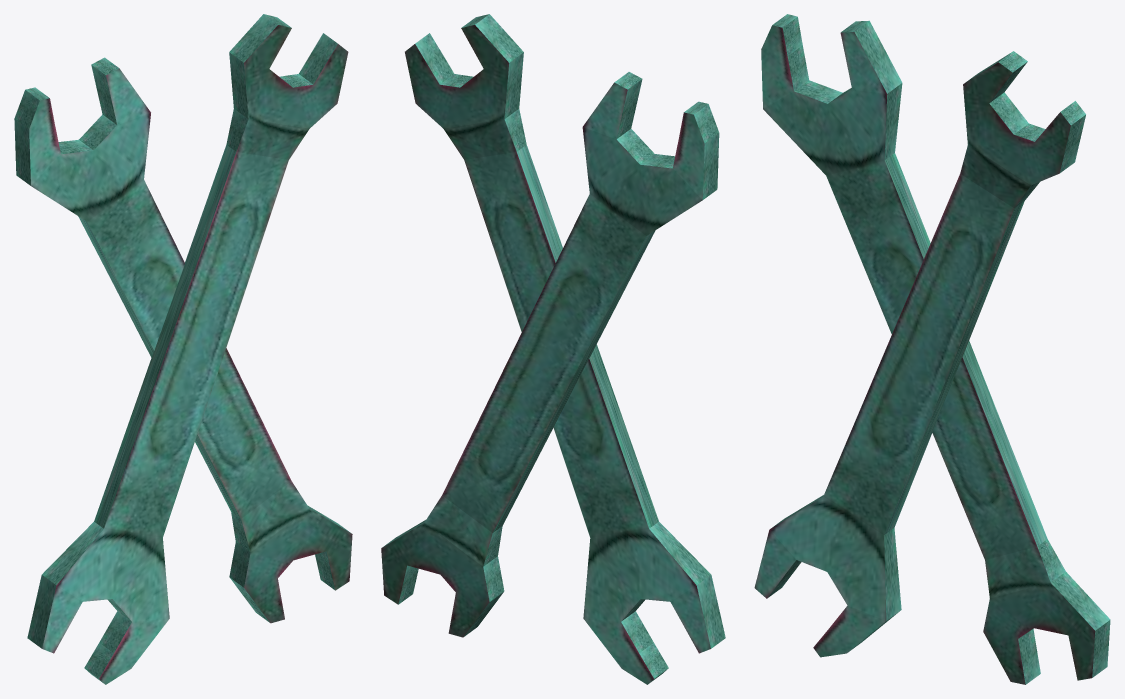
The model's file is HealthPickup.fbx.
3 renders of one model, left to right at view 1: azimuth 30°, elevation 25°; view 2: azimuth 150°, elevation 25°; view 3: azimuth 330°, elevation 25°, orthographic. The views are drawn at different scales.
Visible parts, largest first — view 1: HealthPickup; view 2: HealthPickup; view 3: HealthPickup.
Part boxes in pixels (x1,y1,x2,y2): HealthPickup: [14, 14, 352, 684]; HealthPickup: [381, 14, 725, 684]; HealthPickup: [754, 14, 1110, 684].
Bounding box in the file's own units: 253 × 463 × 33.15.
1 material, 1 textured.
